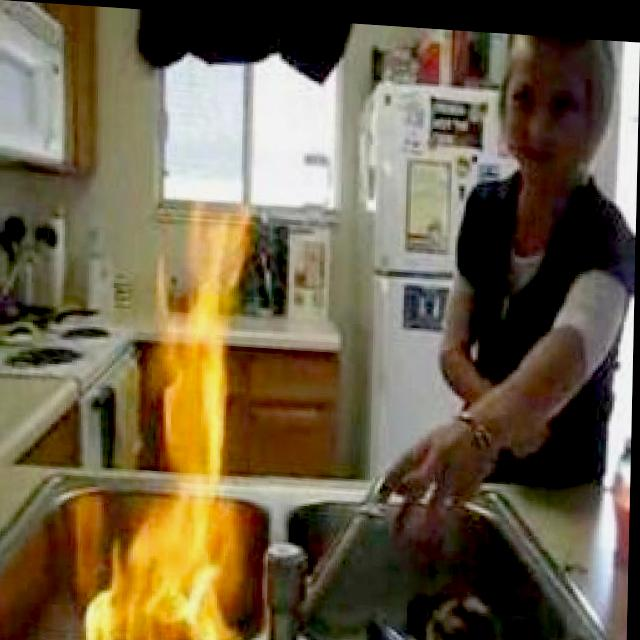Fire: (94, 215, 255, 640)
